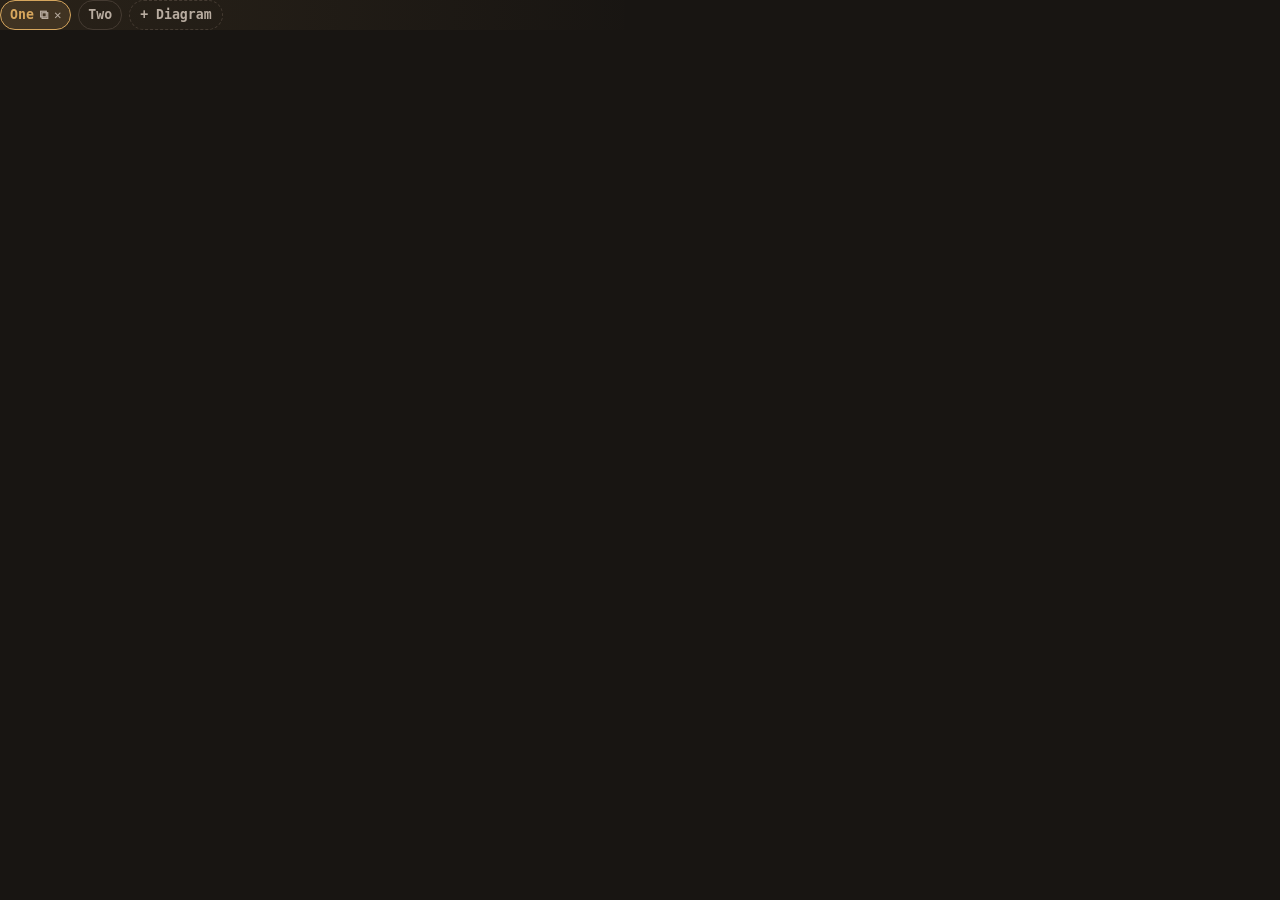
DiagramTabs › keeps the diagram when deletion is cancelled
This screenshot has width=1280, height=900.
Click the button named "Delete One": x=58, y=15 [54,9,61,21]
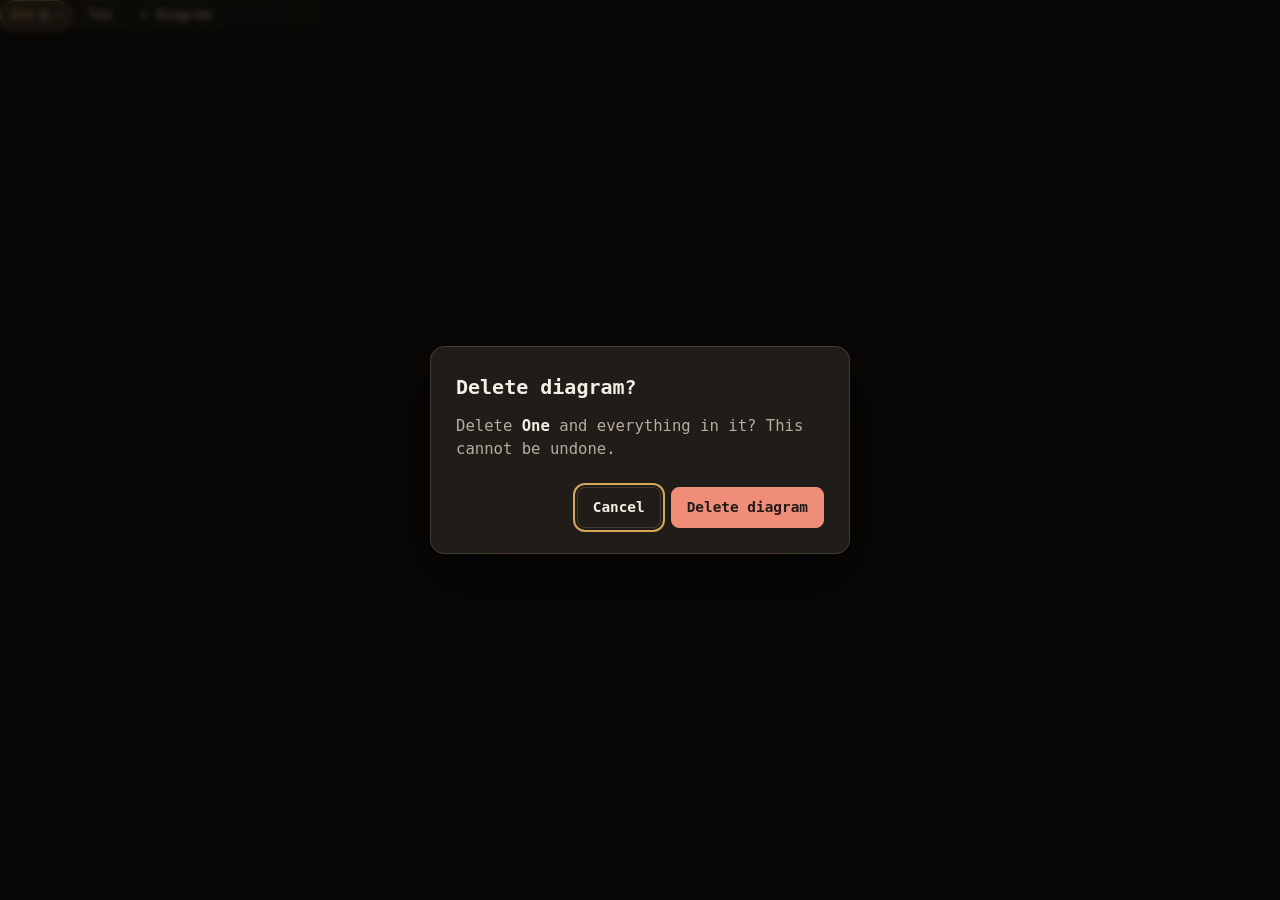
Check: the dialog "Delete diagram?" is shown, box [430,346,850,554]
Click the button "Cancel": x=619, y=507 [577,487,661,528]
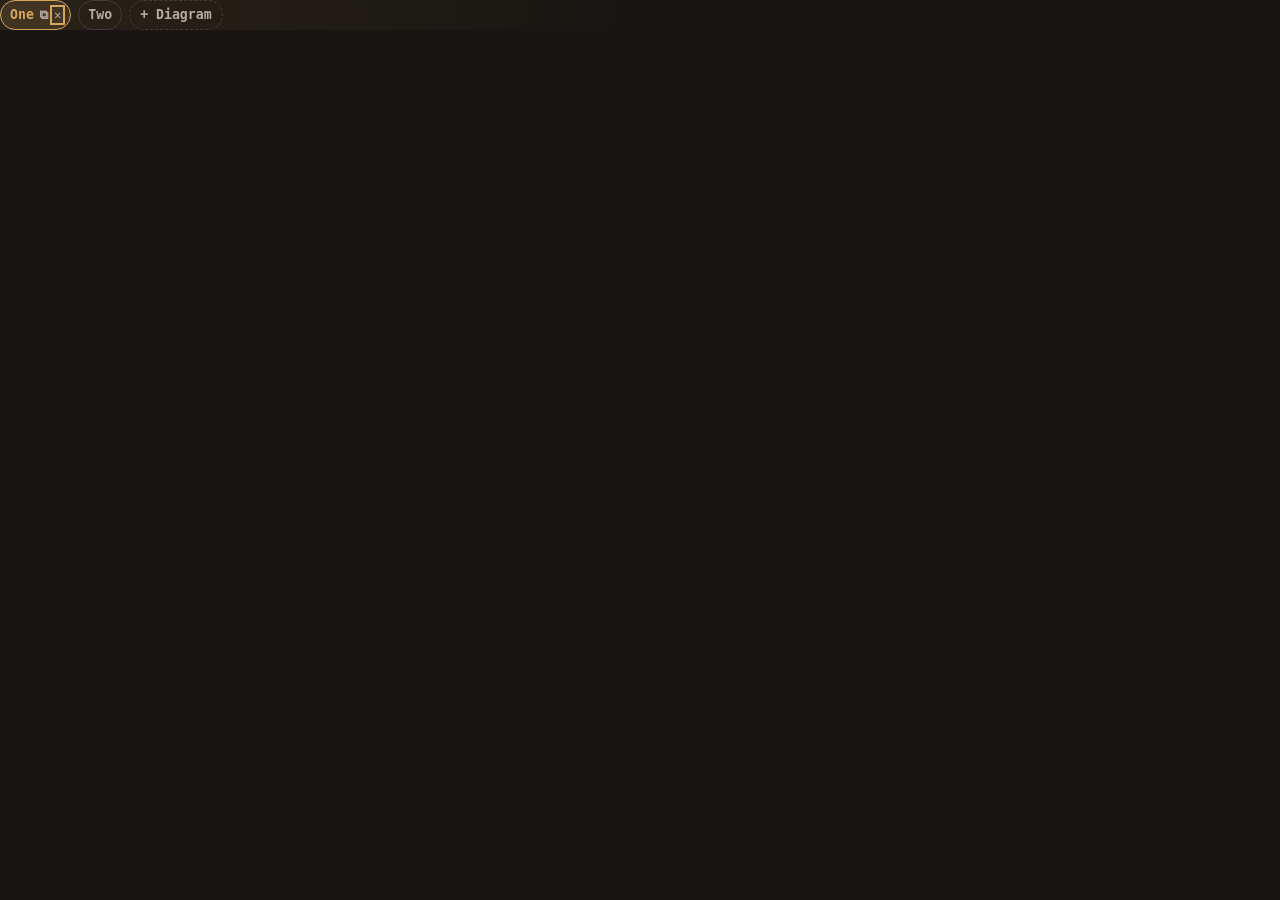
Check: the button "One" is shown, box [10,5,34,25]
Check: the dialog is gone
Click the button named "Delete One": x=58, y=15 [54,9,61,21]
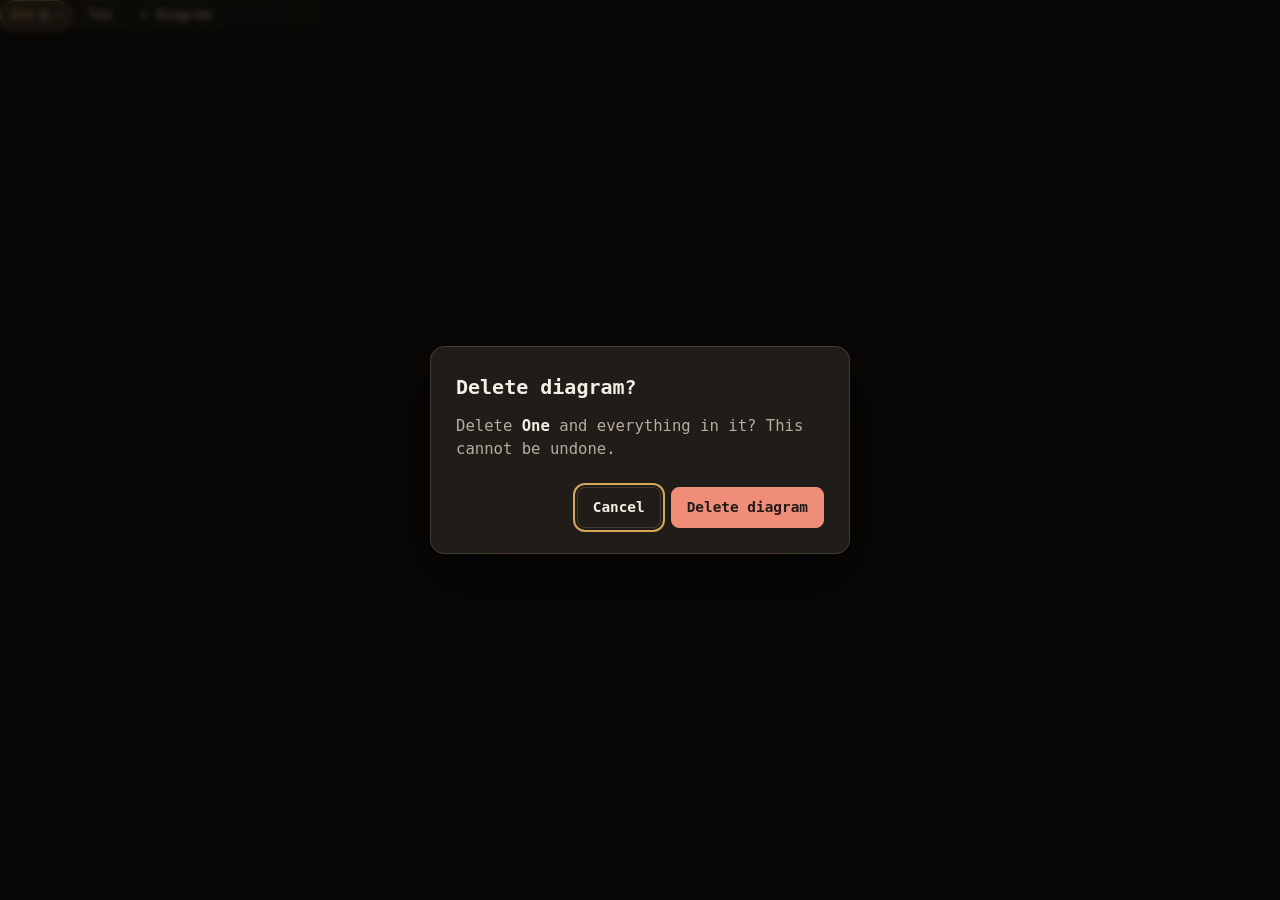
Press Escape
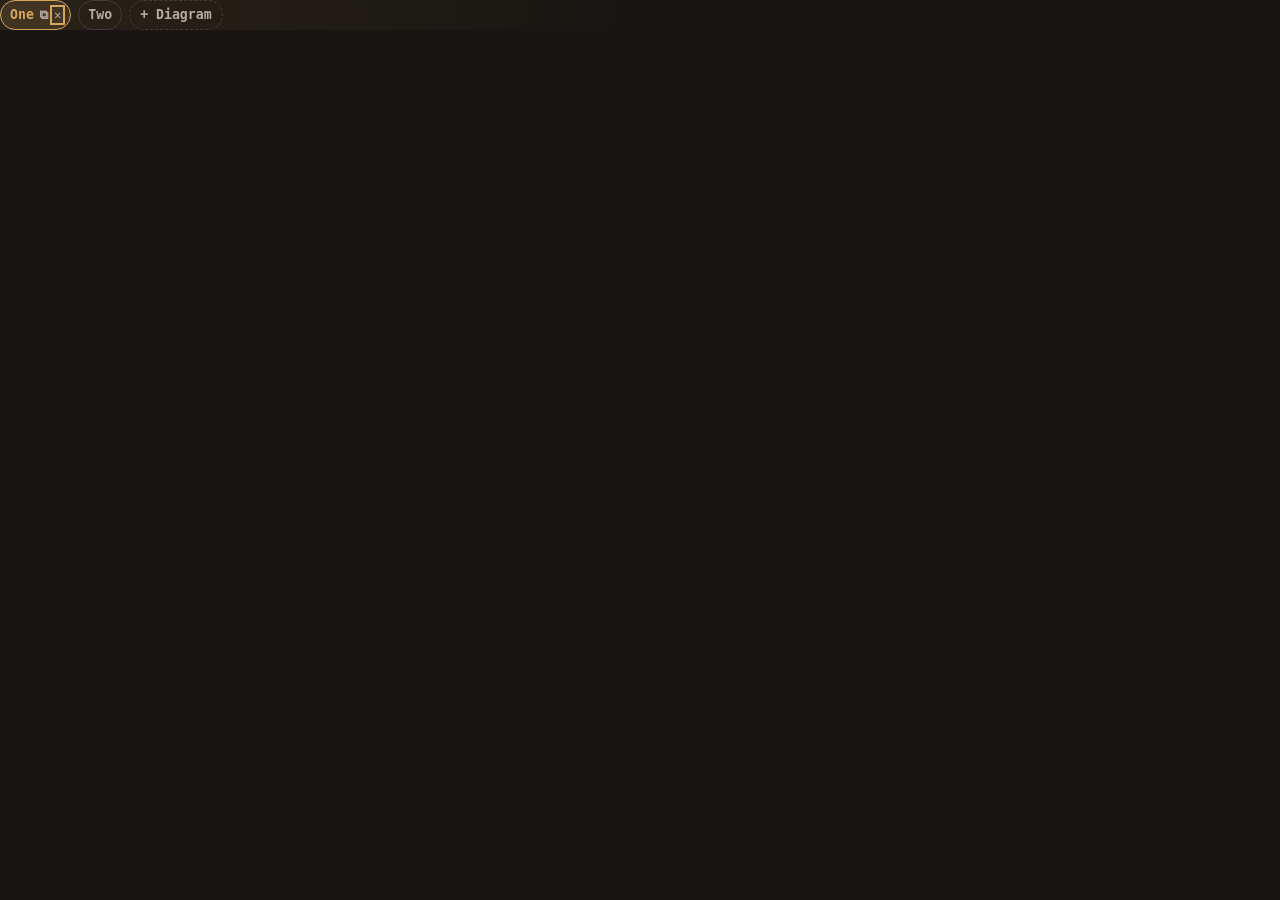
Check: the dialog is gone
